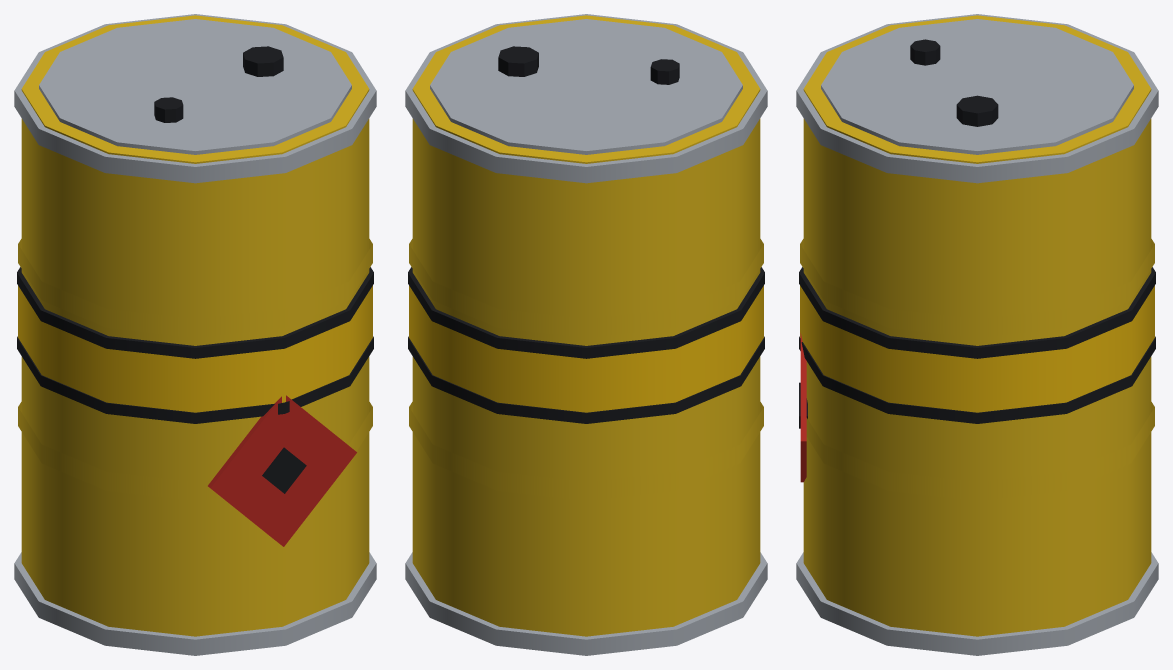
File: barrel_chemical_drum_hazard.glb
3 renders of one model, left to right at view 1: azimuth 30°, elevation 25°; view 2: azimuth 150°, elevation 25°; view 3: azimuth 270°, elevation 25°, orthographic.
Visible parts, largest first — view 1: barrel_chemical_drum_hazard; view 2: barrel_chemical_drum_hazard; view 3: barrel_chemical_drum_hazard.
Part boxes in pixels (<box>): barrel_chemical_drum_hazard: <box>14,14,376,655</box>; barrel_chemical_drum_hazard: <box>405,14,767,655</box>; barrel_chemical_drum_hazard: <box>796,14,1158,655</box>.
Size of the model in its own units: 0.604 by 0.938 by 0.604.
